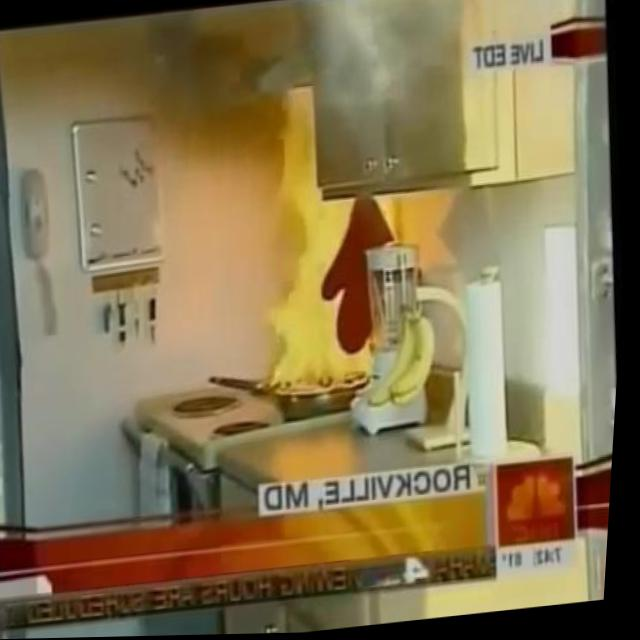fire: (249, 163, 386, 404)
